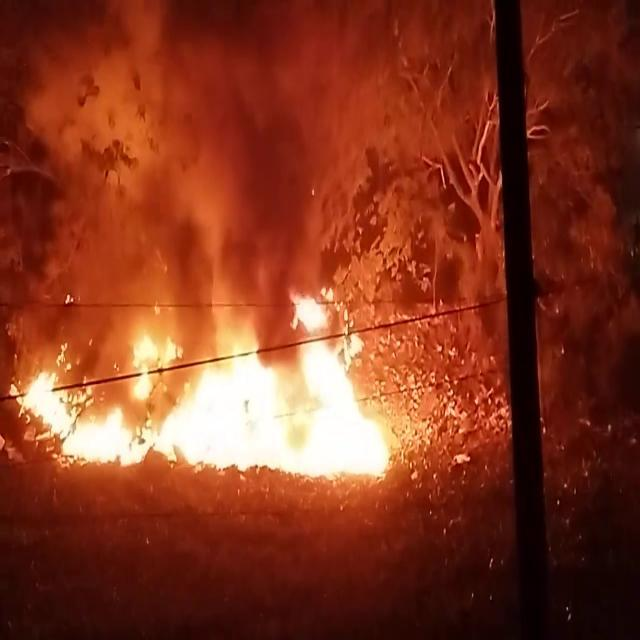Fire: (5, 285, 401, 489)
Smoke: (0, 1, 360, 299)
